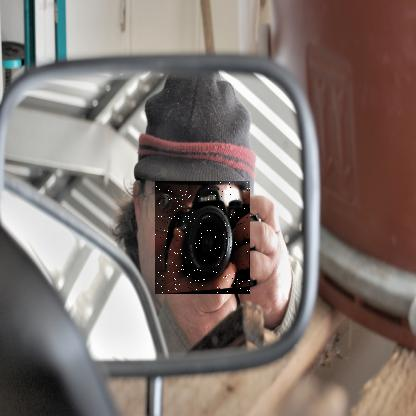Camera: (156, 182, 252, 296)
